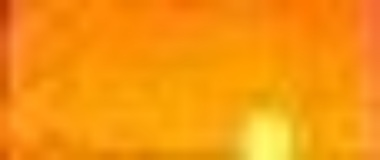Hotspot: (236, 108, 297, 160)
